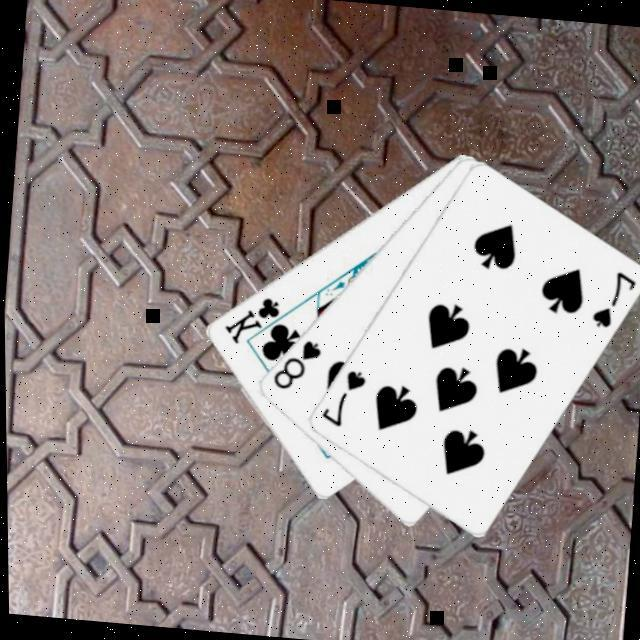7S: (313, 366, 367, 434), (585, 267, 638, 335)
8S: (265, 335, 323, 397)
KC: (216, 292, 294, 354)
